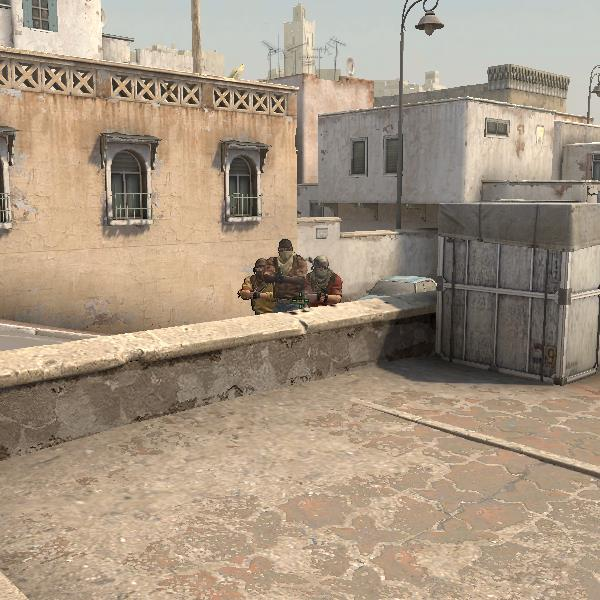t_body: (233, 255, 284, 314)
t_head: (247, 256, 274, 283)
